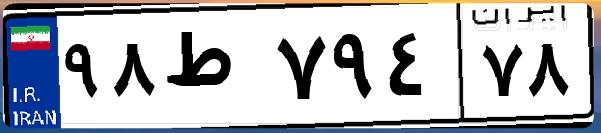4: (385, 28, 445, 110)
7: (270, 28, 330, 110), (475, 38, 525, 113)
8: (525, 38, 570, 115), (110, 28, 158, 98)
9: (330, 28, 385, 110), (57, 26, 110, 100)
ط: (158, 20, 270, 120)
